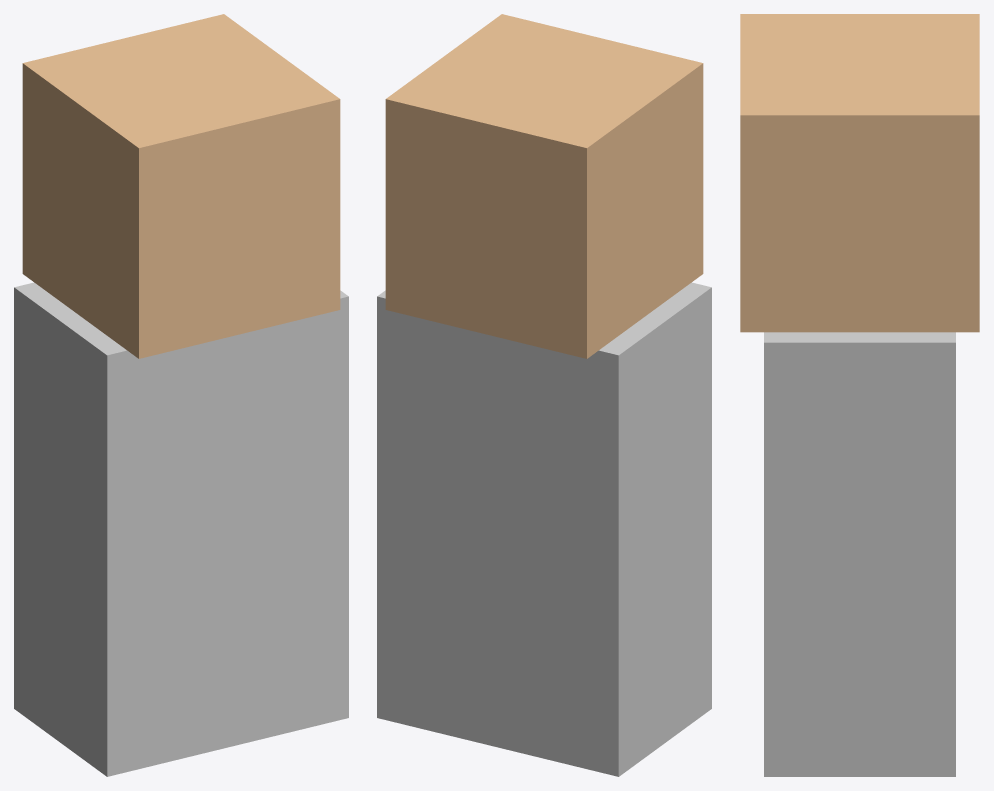
Rendered from character-villager.glb.
3 renders of one model, left to right at view 1: azimuth 30°, elevation 25°; view 2: azimuth 150°, elevation 25°; view 3: azimuth 270°, elevation 25°, orthographic. The views are drawn at different scales.
Parts seen in each view (by area): view 1: body, head; view 2: body, head; view 3: body, head.
Part boxes in pixels (x1,y1,x2,y2): body: [14, 282, 348, 776]; head: [22, 14, 340, 358]; body: [377, 282, 711, 776]; head: [385, 14, 703, 358]; body: [764, 332, 955, 776]; head: [740, 14, 979, 332].
Size of the model in its own units: 0.6 by 1.5 by 0.5.
